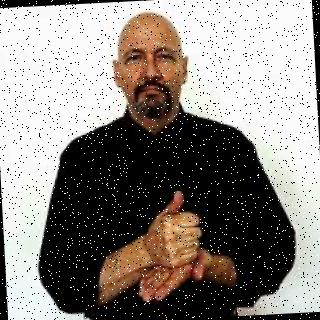Help: (126, 183, 230, 299)
